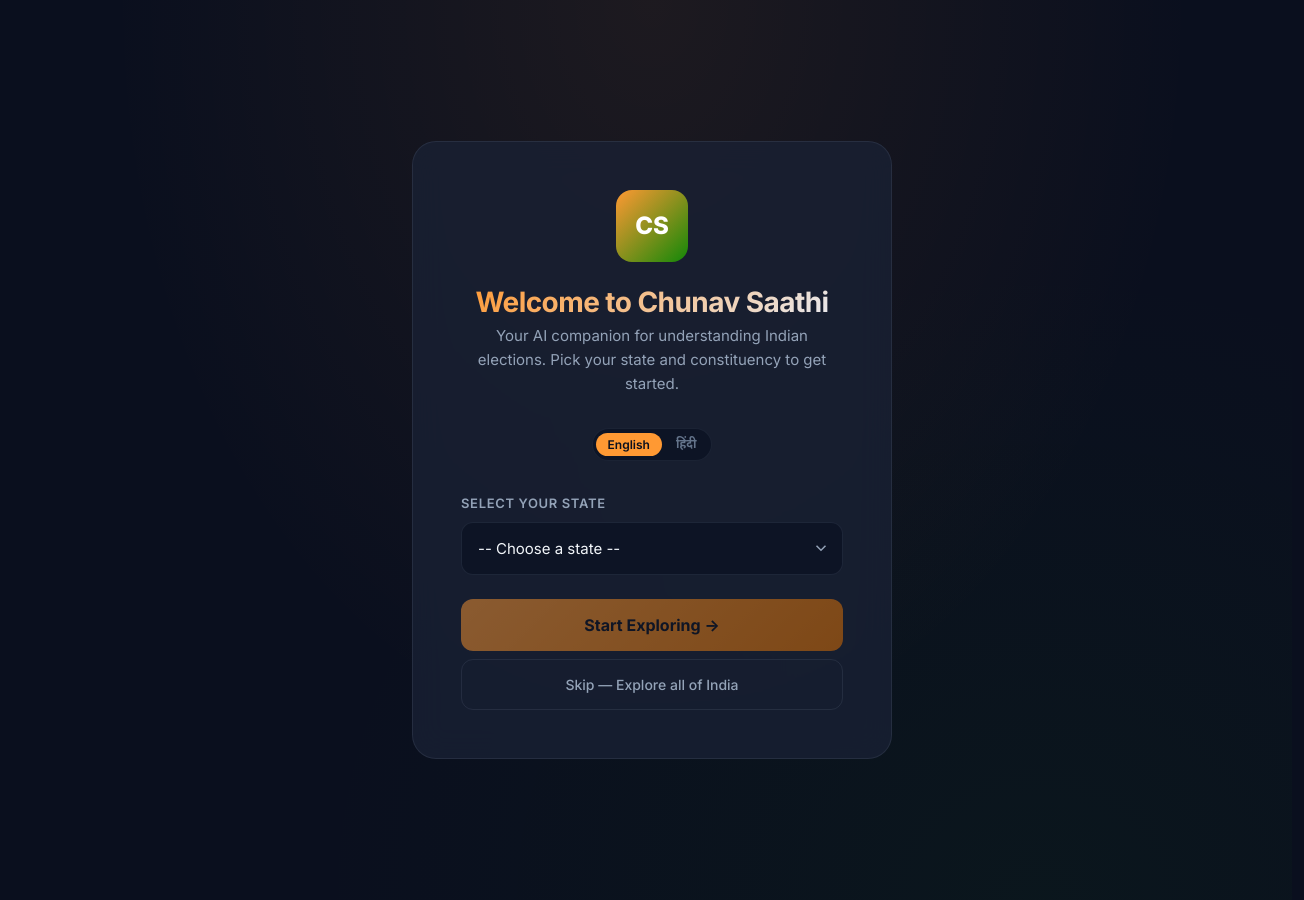
Test case: App Component (Routing & Integration) › can navigate to Quiz page
What coordinates should you click on to do the following:
click the button "Skip — Explore all of India"
I would click on:
 (652, 684)
Its box is [461,659,843,710].
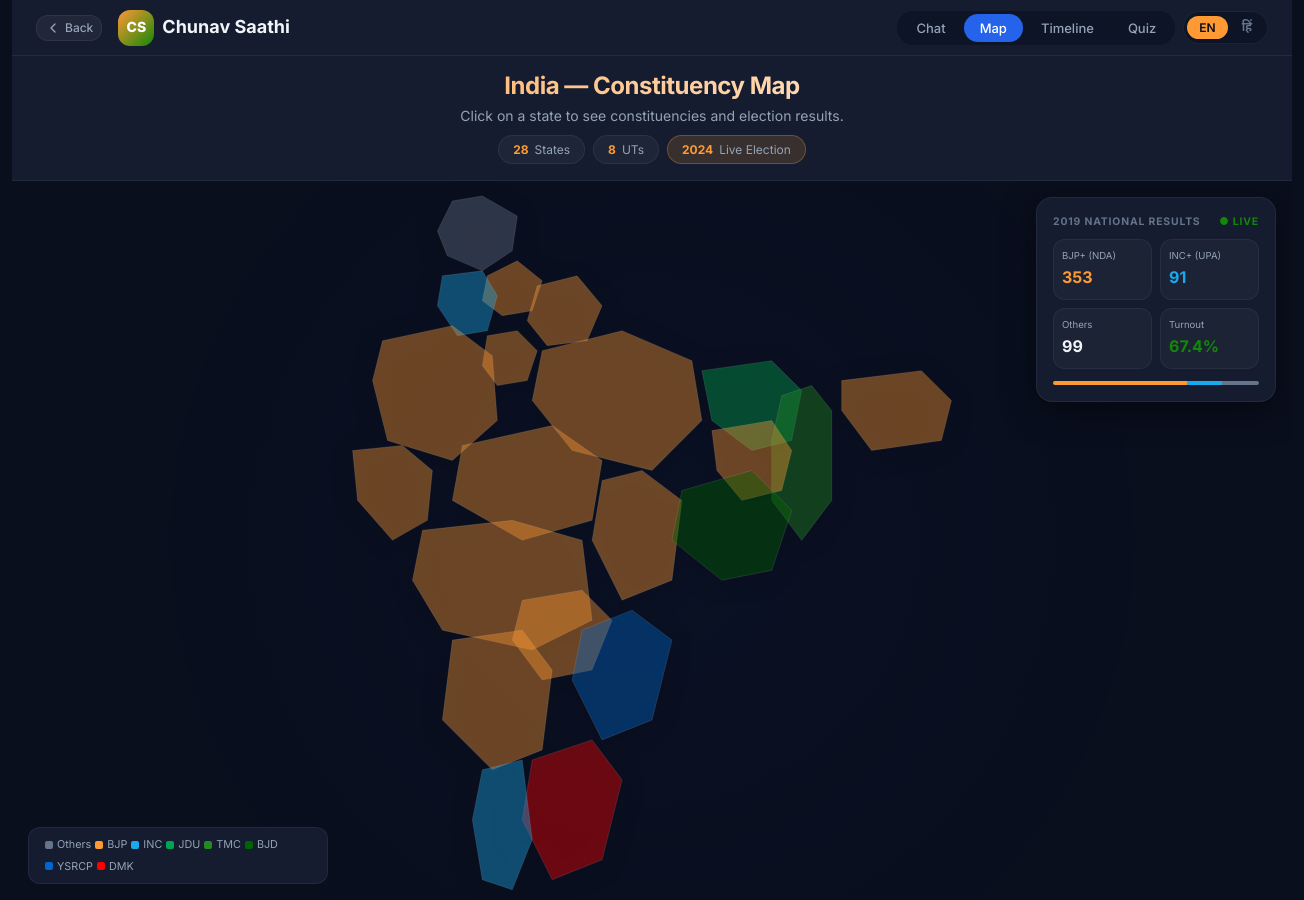
What coordinates should you click on to do the following:
click the button "Quiz"
I would click on:
 (1142, 28)
Its box is [1112,14,1172,42].
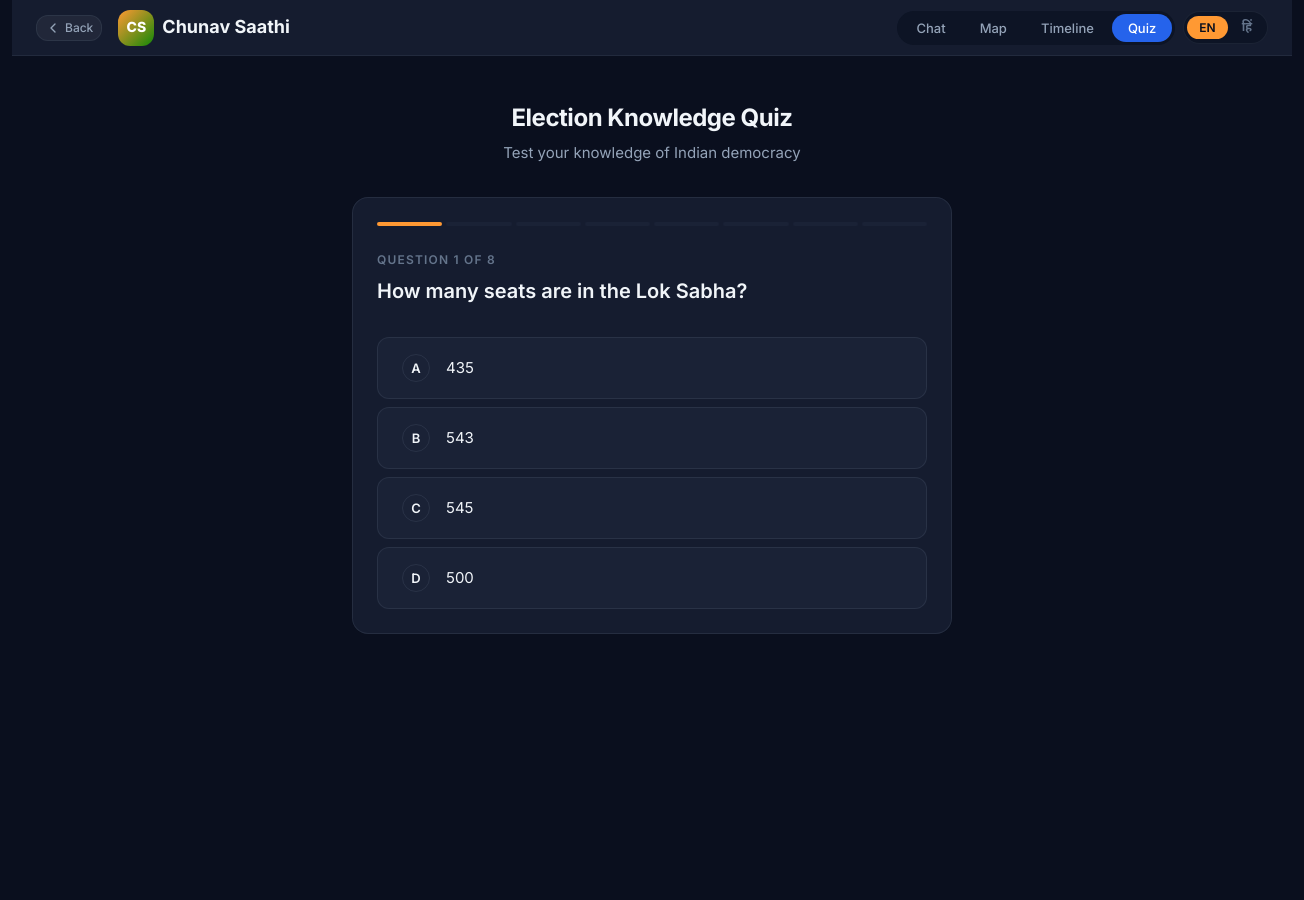
Check: the heading "Election Knowledge Quiz" is shown, box [503,104,801,133]
